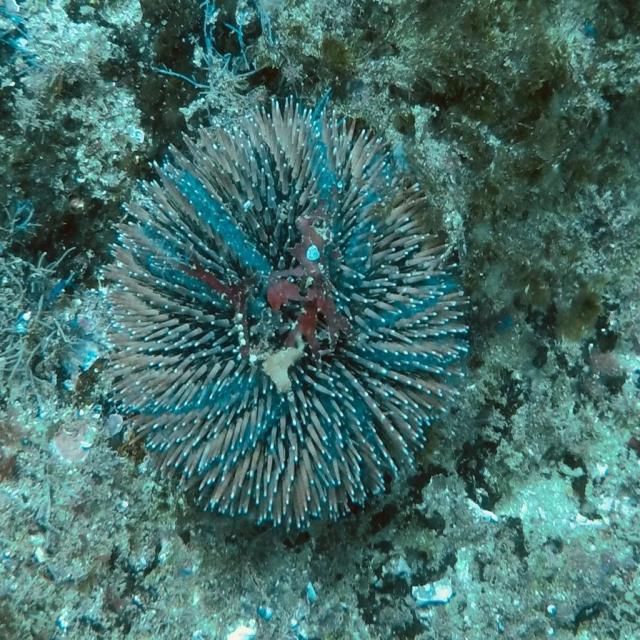Deniz Kestanesi: (91, 86, 472, 537)
